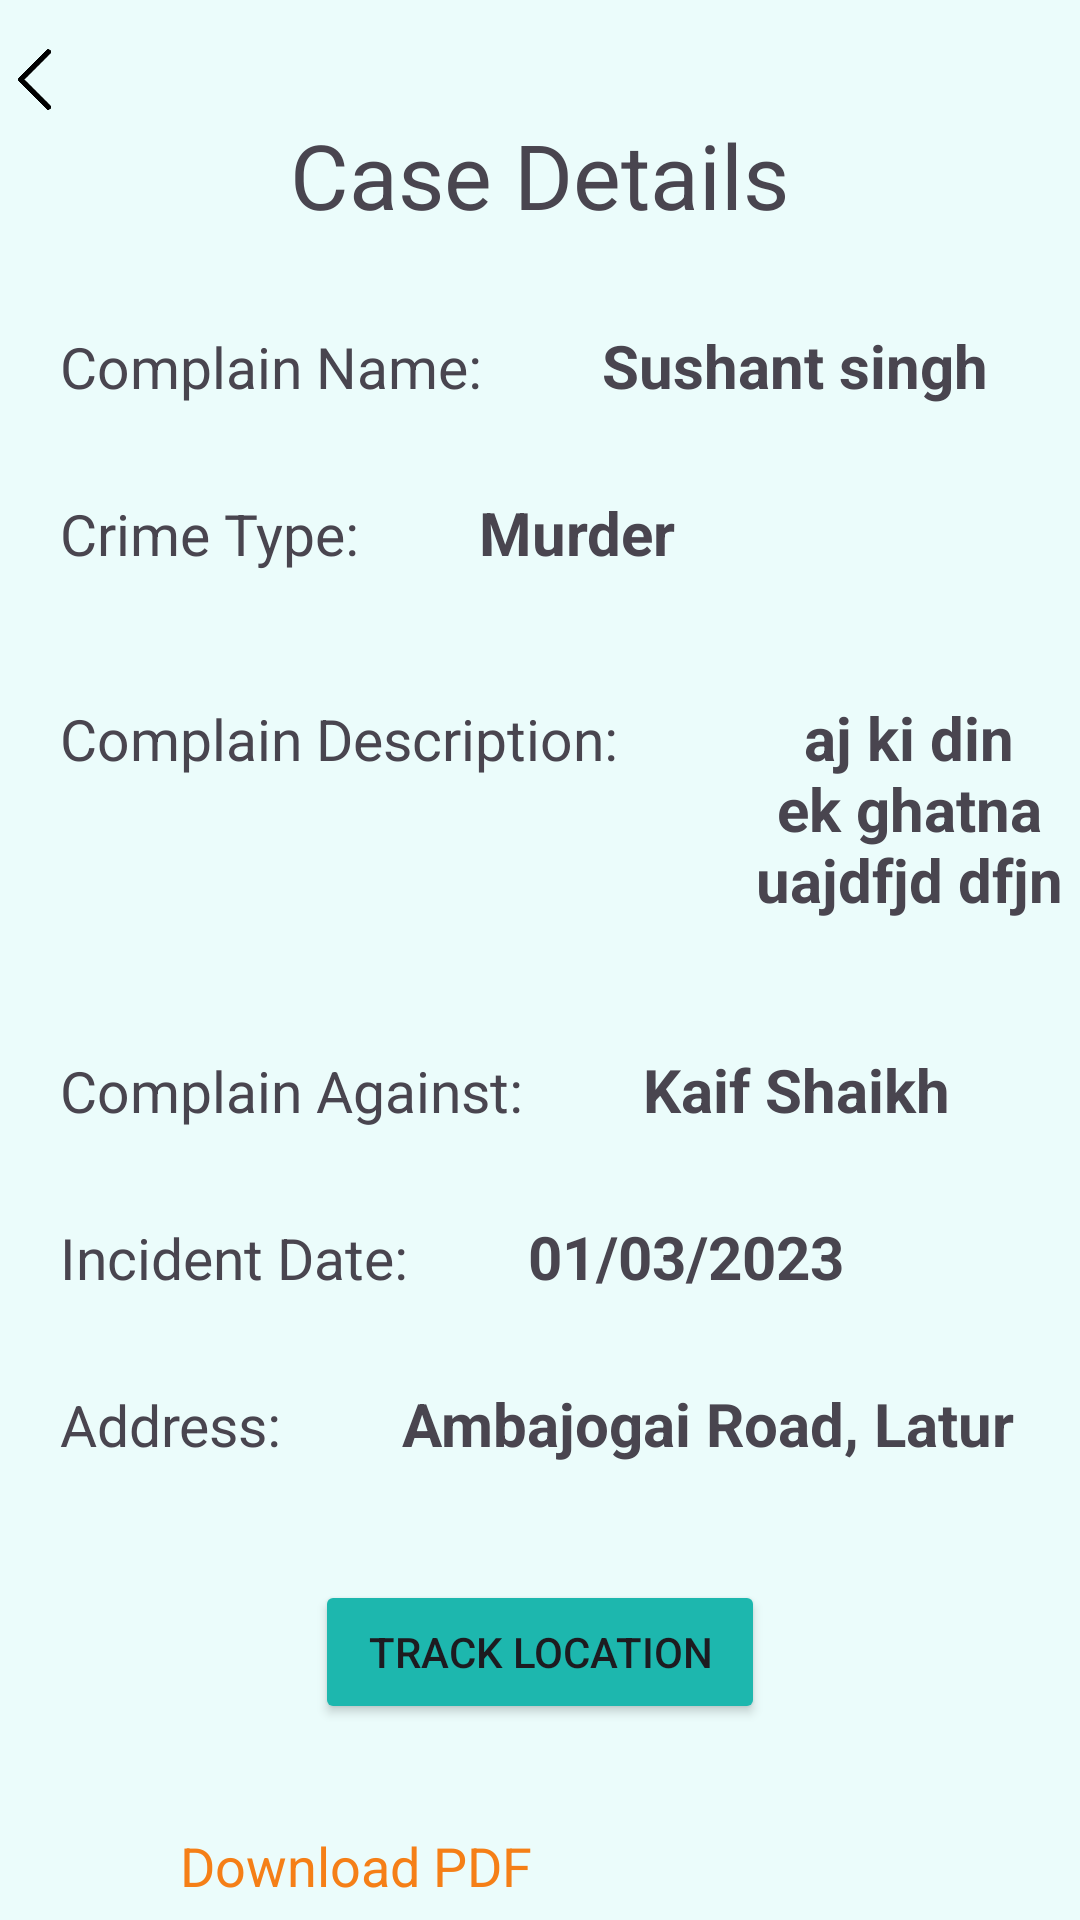

Icons on this 1080px x 1920px Android screen, each with its box as {"x1": x1, "y1": y1, "x2": x2, "y2": y2}:
back: {"x1": 18, "y1": 49, "x2": 51, "y2": 110}
